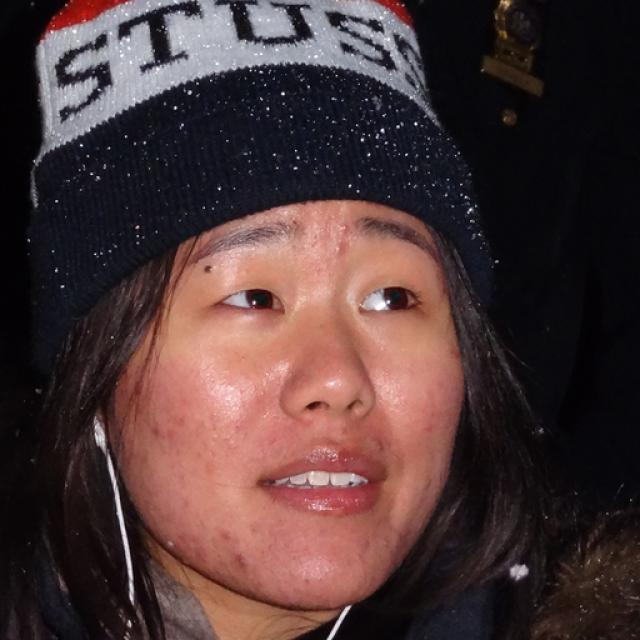Acne: (328, 217, 351, 259), (369, 431, 392, 455), (233, 547, 253, 572), (221, 526, 240, 545), (337, 424, 352, 440), (378, 534, 391, 551)
